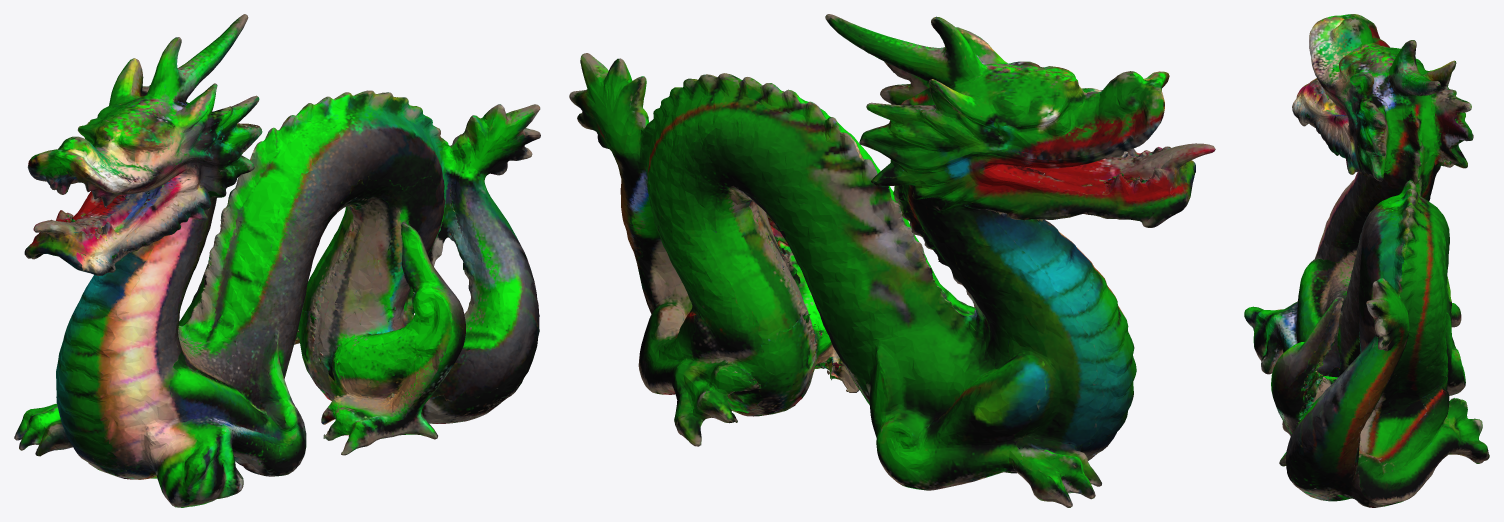
Rendered from textured_texpainter.glb.
The picture shows the model from 3 angles, left to right: view 1: azimuth 30°, elevation 25°; view 2: azimuth 150°, elevation 25°; view 3: azimuth 270°, elevation 25°; orthographic projection. The views are drawn at different scales.
Visible parts, largest first — view 1: Node-Mesh; view 2: Node-Mesh; view 3: Node-Mesh.
Boxes of the visible parts, x1=… form: Node-Mesh: x1=14, y1=14, x2=540, y2=507; Node-Mesh: x1=569, y1=14, x2=1215, y2=507; Node-Mesh: x1=1244, y1=14, x2=1489, y2=507.
Bounding box in the file's own units: 2 × 1.41 × 0.8946.
1 material, 1 textured.
